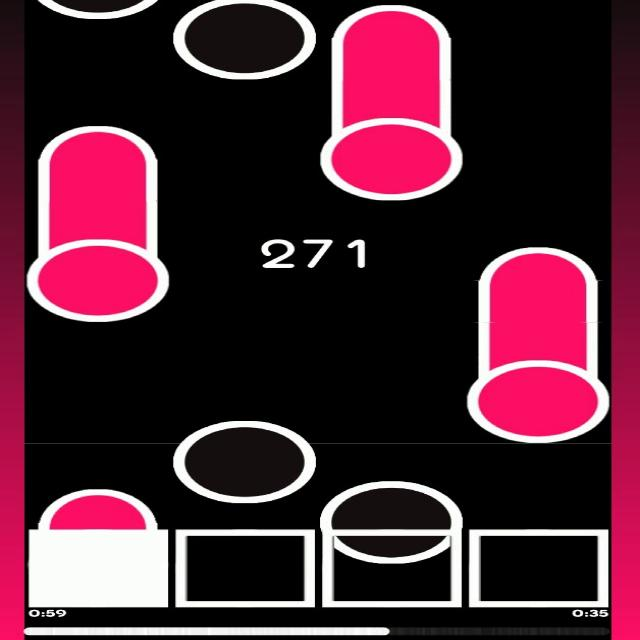end_hold: (36, 478, 158, 530), (480, 236, 598, 286), (35, 115, 159, 162), (333, 0, 453, 46)
note: (320, 481, 464, 564), (173, 419, 314, 502), (172, 1, 318, 79), (39, 0, 158, 19)
start_hold: (26, 216, 174, 324), (465, 342, 611, 445), (320, 103, 464, 201)
